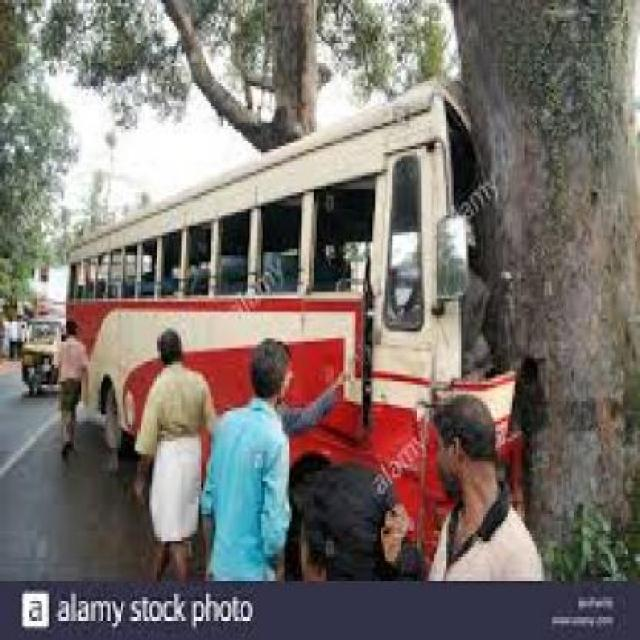accident: (140, 83, 592, 526)
